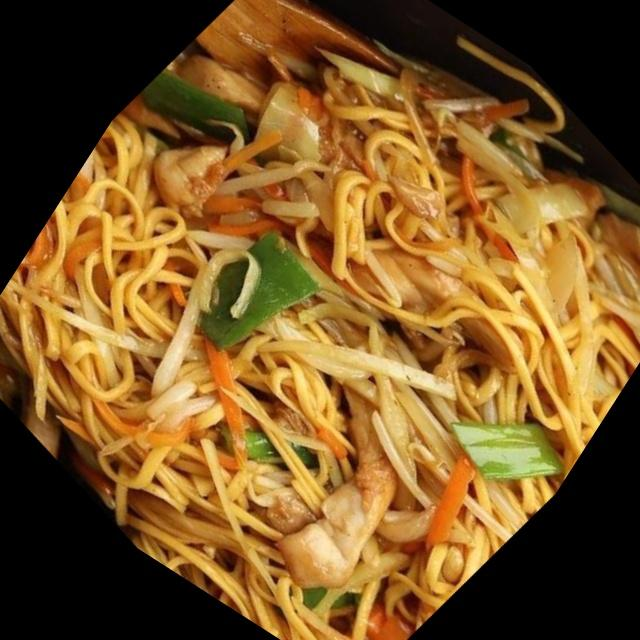pancit bihon: (0, 0, 639, 636)
